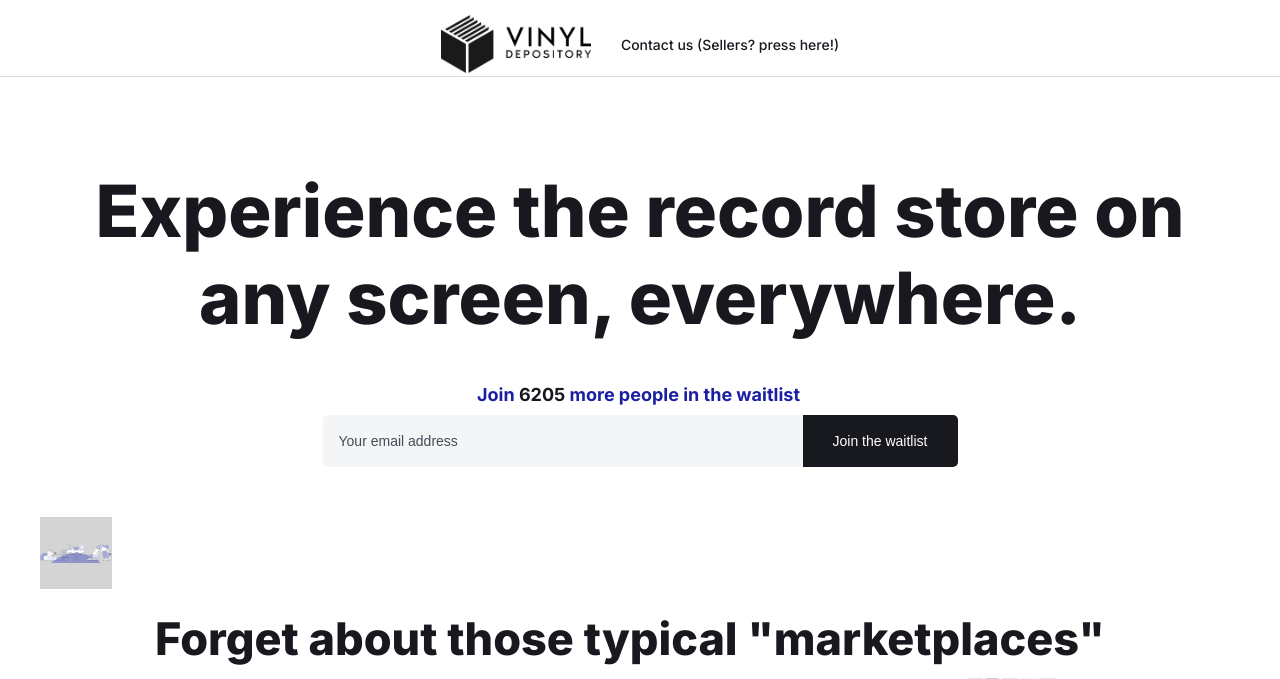
Test: Behavior tests › (Intro Section): Should display success validation message when submitting valid email input and successfully subscribed - and clear the input
Type "dummy@email.com" into the field with test id "intro-input".
click(563, 441); type("dummy@email.com")  # box [323, 415, 803, 467]
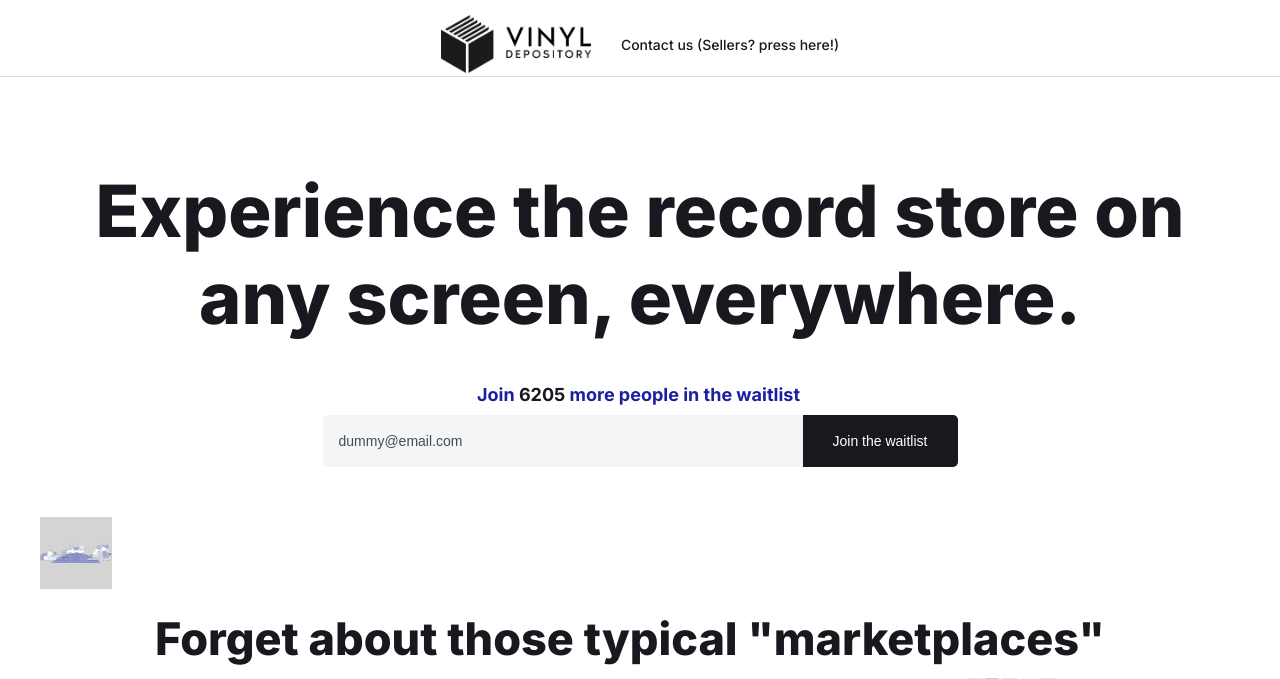
Submit the form with test id "intro-form", box [323, 415, 958, 467]
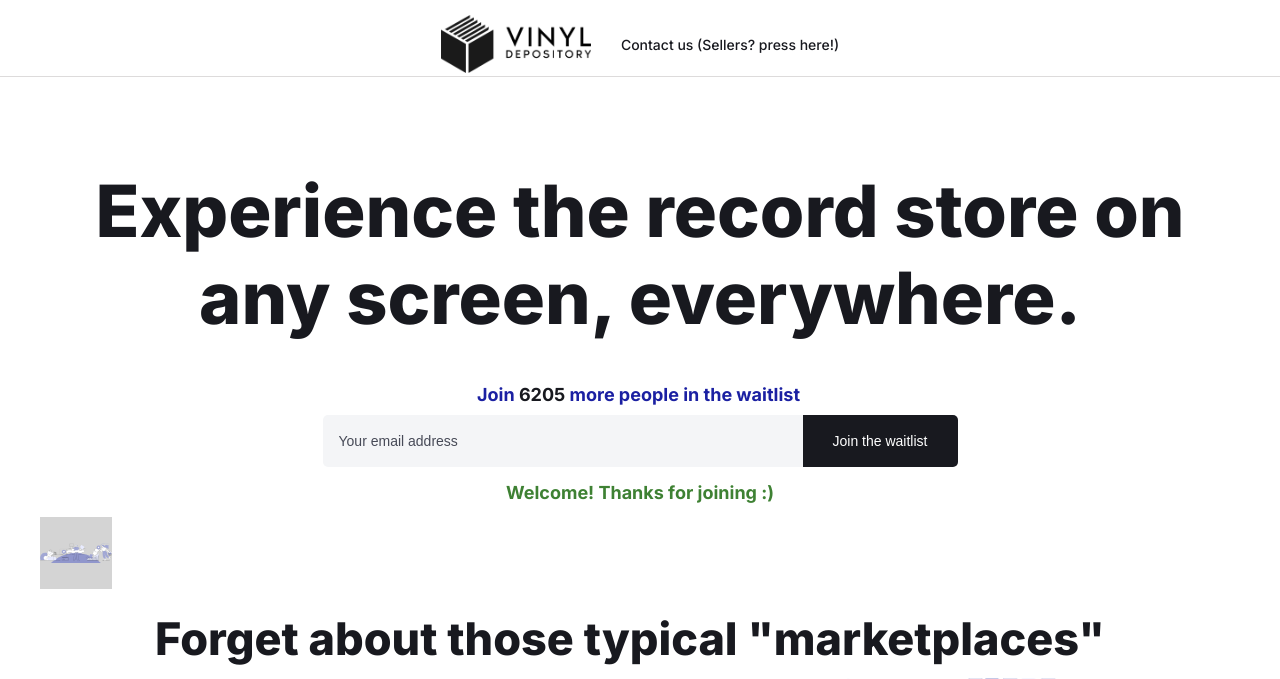
Check: the text "Welcome! Thanks for joining :)" is shown, box [506, 482, 774, 503]
